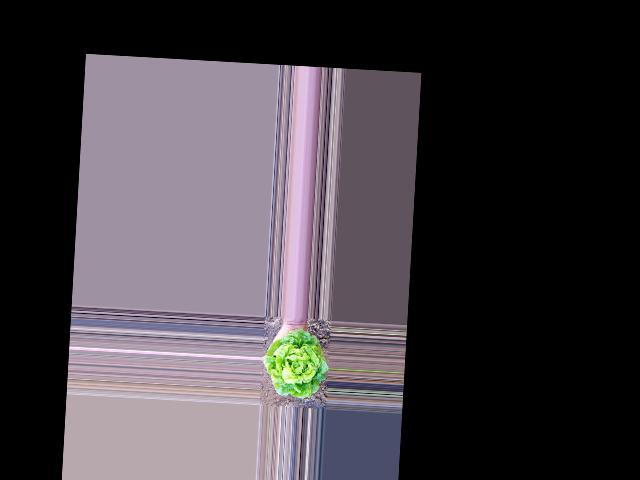lettuce: (263, 331, 328, 400)
